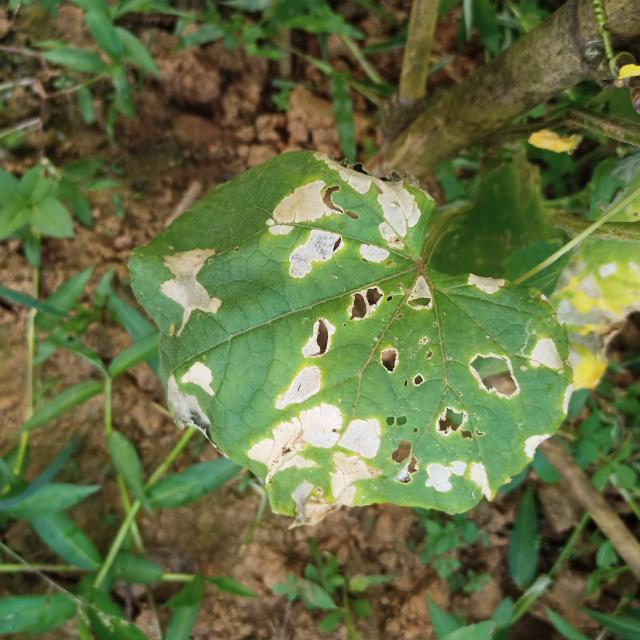disease_cucumber: (149, 140, 564, 516)
